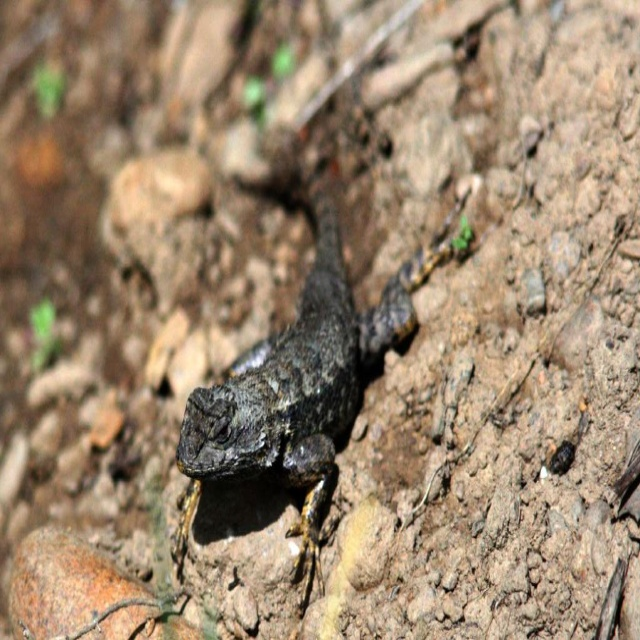Lizard: (170, 176, 471, 620)
